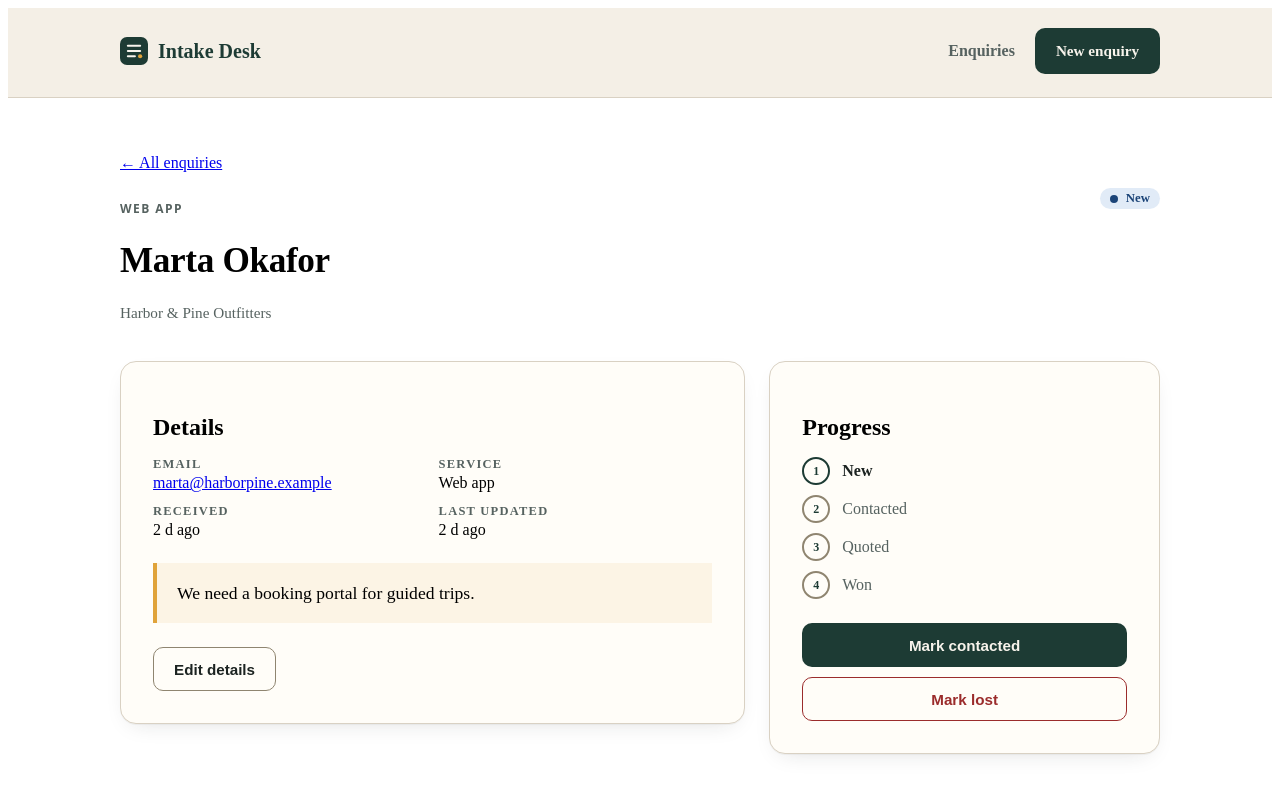
Test: enquiry detail › keeps the edit form open on an error and closes it on Cancel
Click the button "Edit details": (214, 669) [153,647,276,691]
(page scrolled)
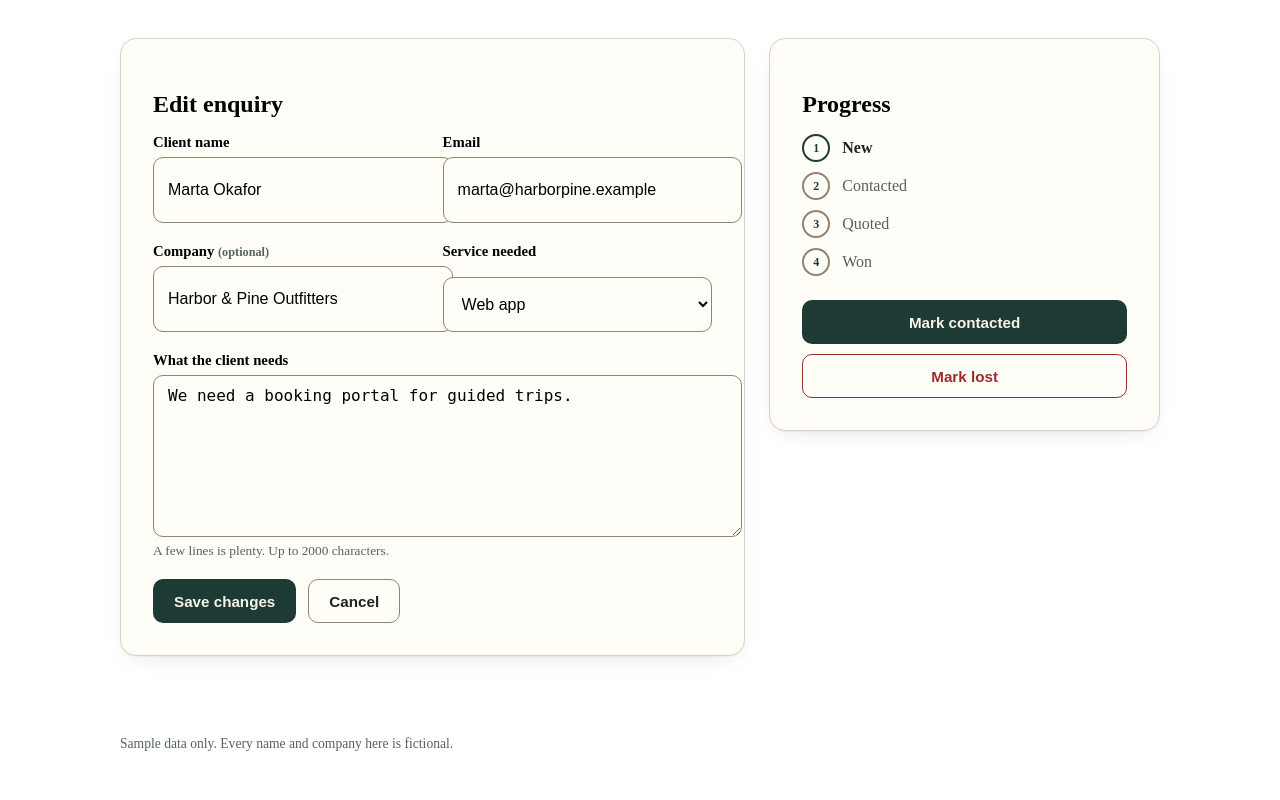
Click the button "Save changes": (225, 601) [153,579,296,623]
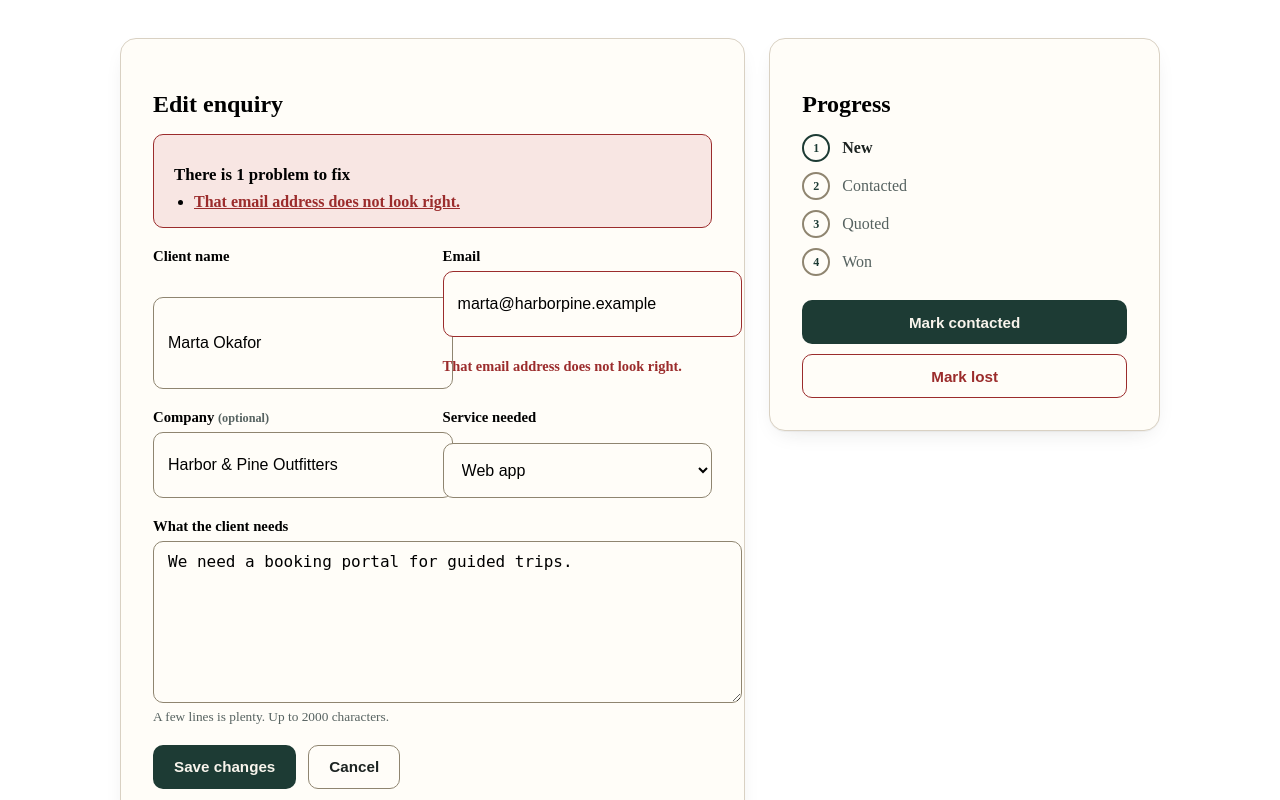
expect the heading "There is 1 problem to fix" is shown: met, box [174,165,350,184]
Click the button "Cancel": (354, 767) [308,745,400,789]
(page scrolled)
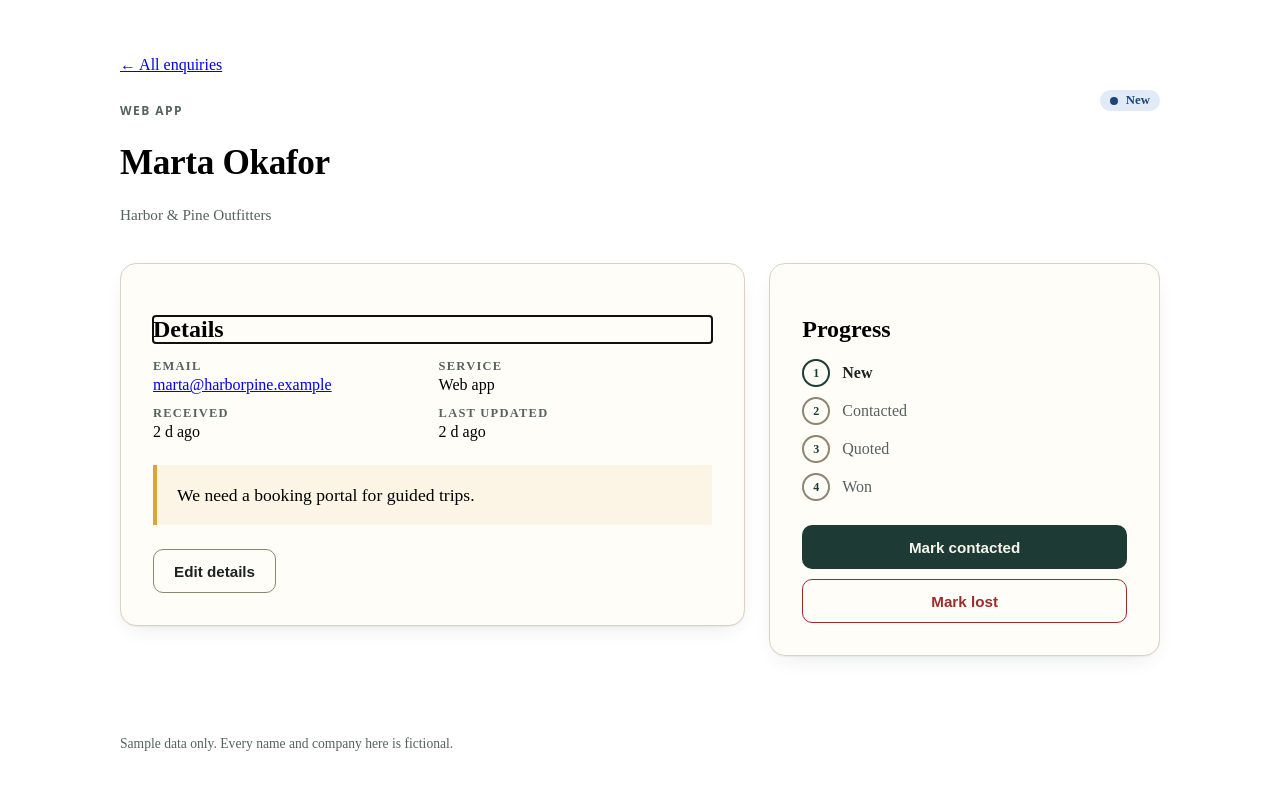
expect the button "Edit details" is shown: met, box [153,549,276,593]
expect the heading "There is 1 problem to fix" is gone: met
